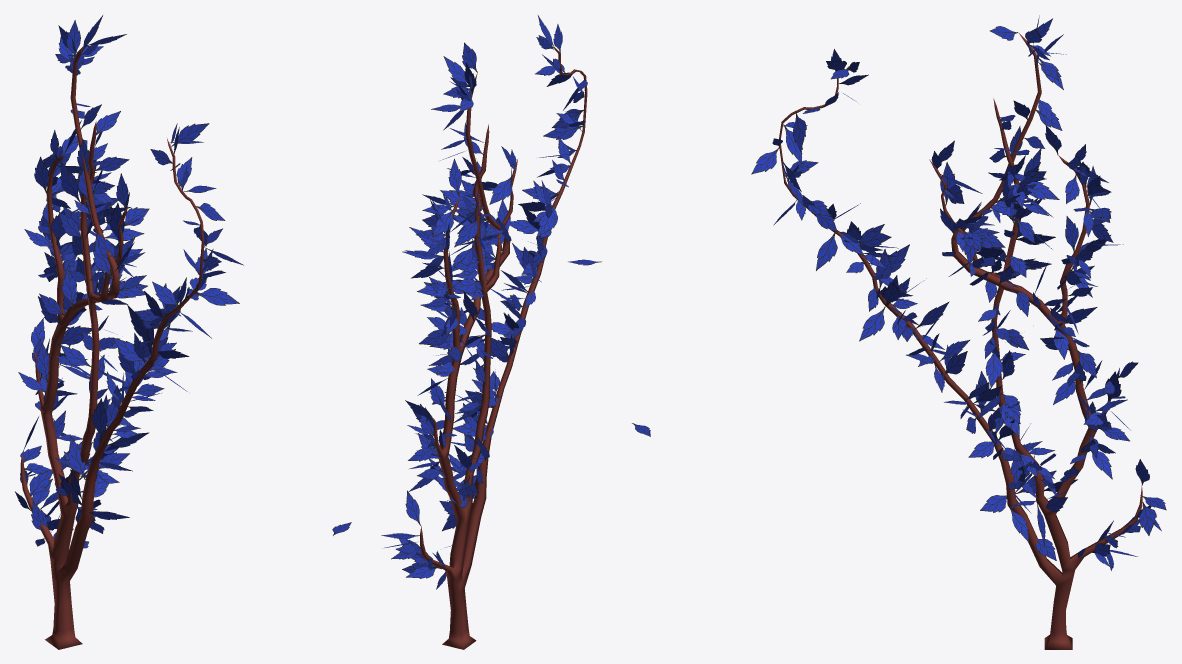
Rendered from AlienClimbPlantPurple.fbx.
3 views of the same model, side by side, from view 1: azimuth 30°, elevation 25°; view 2: azimuth 150°, elevation 25°; view 3: azimuth 270°, elevation 25° (orthographic). The views are drawn at different scales.
Parts seen in each view (by area): view 1: Cube; view 2: Cube, Cube|leaf-sketch-rubber-stamp-leaf-png-transparent-sketch-11; view 3: Cube.
Boxes of the visible parts, x1=… form: Cube: x1=20, y1=46, x2=204, y2=649; Cube: x1=420, y1=46, x2=587, y2=649; Cube|leaf-sketch-rubber-stamp-leaf-png-transparent-sketch-11: x1=489, y1=174, x2=512, y2=204; Cube: x1=779, y1=32, x2=1142, y2=649.
Size of the model in its own units: 353 by 2028 by 1562.
